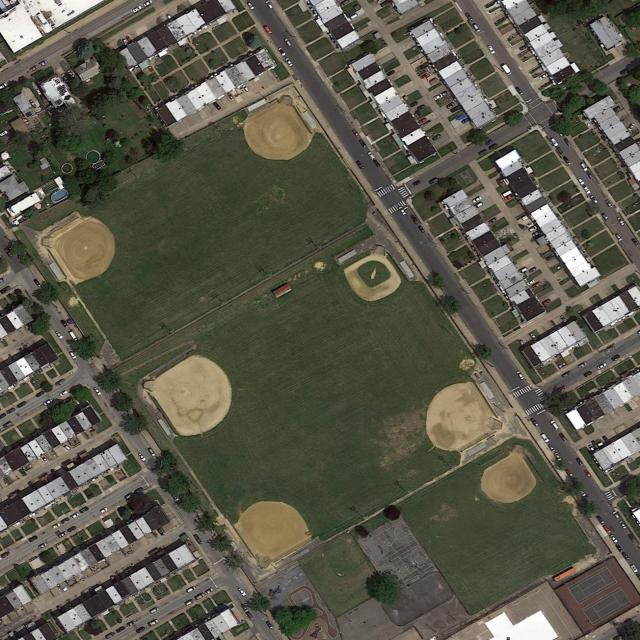ship: (454, 113, 467, 123)
small-vehicle: (501, 64, 513, 76), (192, 534, 204, 545), (355, 159, 366, 171), (540, 432, 551, 444), (549, 419, 560, 431), (501, 189, 513, 200), (347, 12, 359, 22), (427, 176, 439, 186), (450, 104, 462, 114), (593, 440, 605, 450), (410, 214, 420, 225), (148, 547, 159, 557), (558, 432, 568, 443), (194, 592, 206, 601), (149, 606, 161, 615), (147, 619, 159, 628), (105, 631, 117, 640), (27, 534, 39, 543), (471, 195, 483, 204), (16, 400, 28, 409), (55, 379, 67, 388), (477, 148, 489, 157), (596, 362, 608, 371), (431, 133, 443, 142), (504, 193, 516, 202), (277, 47, 287, 57), (358, 139, 368, 149), (60, 73, 70, 83), (93, 386, 103, 396), (32, 278, 42, 288), (609, 534, 619, 544), (618, 520, 628, 530), (595, 515, 605, 525), (589, 195, 599, 205), (553, 452, 563, 462), (555, 146, 565, 156), (562, 156, 572, 166), (530, 417, 540, 427), (515, 370, 525, 380), (79, 505, 90, 514), (488, 216, 499, 225), (285, 57, 294, 68), (367, 151, 376, 162), (132, 5, 143, 14), (583, 370, 594, 379), (630, 563, 639, 574), (605, 345, 616, 354), (603, 524, 612, 535), (610, 354, 621, 363), (579, 161, 588, 172), (538, 72, 549, 81), (515, 86, 524, 97), (115, 625, 127, 633), (487, 143, 499, 151), (60, 583, 69, 593), (246, 611, 255, 621), (398, 206, 407, 216), (240, 603, 249, 613), (238, 587, 247, 597), (265, 0, 274, 10), (213, 101, 222, 111), (148, 447, 157, 457), (43, 398, 53, 407), (55, 330, 64, 340), (60, 319, 69, 329), (615, 543, 624, 553), (627, 534, 637, 543), (621, 551, 630, 561), (578, 488, 587, 498), (614, 233, 623, 243), (576, 176, 585, 186), (583, 185, 592, 195), (605, 199, 614, 209), (617, 217, 626, 227), (547, 444, 556, 454), (550, 137, 559, 147), (465, 12, 474, 22), (386, 68, 396, 77), (445, 101, 455, 110), (564, 138, 573, 148), (135, 626, 146, 634), (203, 587, 214, 595), (186, 586, 197, 594), (184, 599, 195, 607), (0, 551, 11, 559), (60, 517, 71, 525), (124, 492, 135, 500), (134, 487, 145, 495), (61, 443, 72, 451), (2, 421, 13, 429), (5, 407, 16, 415), (35, 390, 46, 398), (577, 362, 588, 370), (57, 531, 68, 539), (561, 371, 572, 379), (531, 281, 542, 289), (246, 1, 255, 10), (284, 38, 293, 47), (264, 26, 273, 35), (417, 225, 426, 234), (165, 14, 174, 23), (29, 100, 38, 109), (171, 493, 180, 502), (138, 453, 147, 462), (69, 351, 78, 360), (602, 435, 611, 444), (612, 511, 621, 520), (631, 238, 640, 247), (157, 527, 166, 536), (601, 213, 610, 222), (487, 45, 496, 54), (472, 23, 481, 32), (559, 314, 568, 323), (126, 620, 136, 628), (38, 542, 48, 550), (51, 522, 61, 530), (474, 201, 484, 209), (70, 512, 80, 520), (99, 507, 109, 515), (29, 65, 39, 73), (38, 60, 48, 68), (564, 469, 574, 477), (67, 525, 77, 533), (613, 105, 623, 113), (586, 170, 594, 180), (461, 117, 471, 125), (409, 100, 419, 108), (418, 117, 428, 125), (542, 298, 552, 306), (528, 266, 538, 274), (518, 267, 528, 275), (545, 254, 555, 262), (531, 230, 541, 238), (142, 0, 153, 7), (619, 68, 630, 75), (416, 104, 427, 111), (266, 621, 274, 630), (373, 159, 381, 168), (352, 129, 360, 138), (67, 70, 75, 79), (227, 92, 235, 101), (59, 390, 68, 398), (583, 470, 592, 478), (576, 458, 584, 467), (627, 123, 636, 131), (420, 73, 430, 80), (433, 94, 443, 101), (519, 339, 526, 349), (528, 225, 538, 232), (242, 85, 250, 93), (125, 35, 133, 43), (41, 455, 49, 463), (530, 333, 538, 341), (413, 180, 422, 187), (485, 139, 494, 146), (519, 44, 528, 51), (441, 90, 450, 97), (527, 279, 536, 286), (588, 445, 595, 453), (559, 130, 567, 137), (123, 39, 129, 46), (7, 251, 13, 258)
